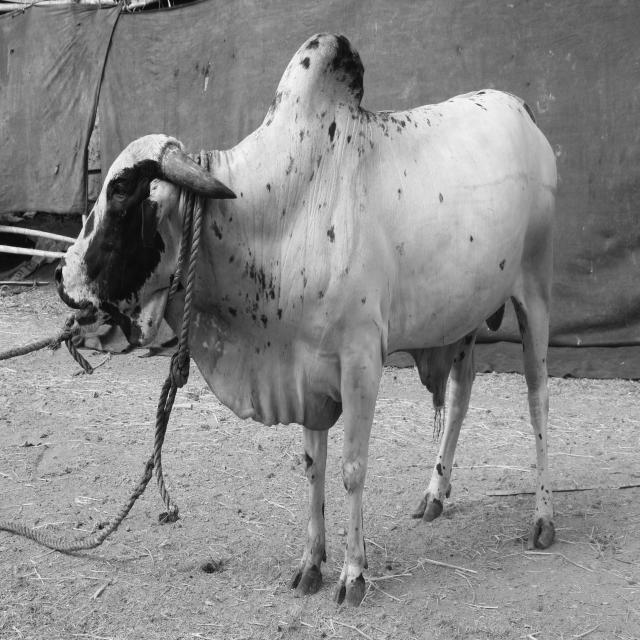Cow: (52, 30, 560, 609)
